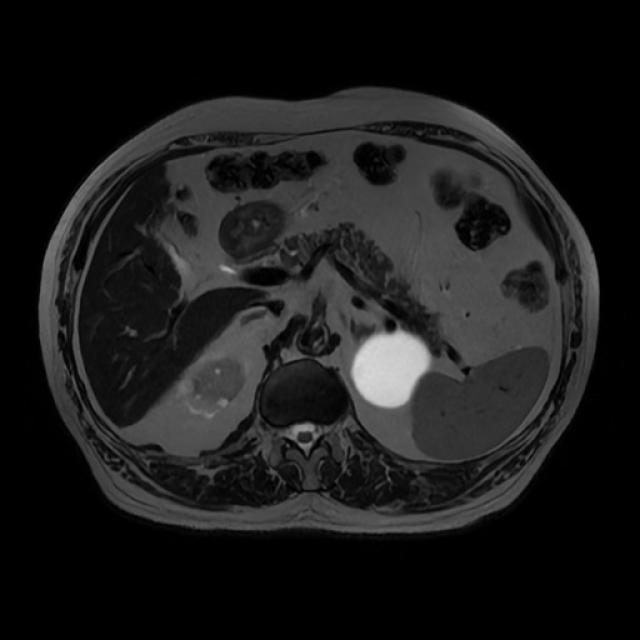sag: (179, 358, 247, 411)
sol: (352, 331, 430, 405)
